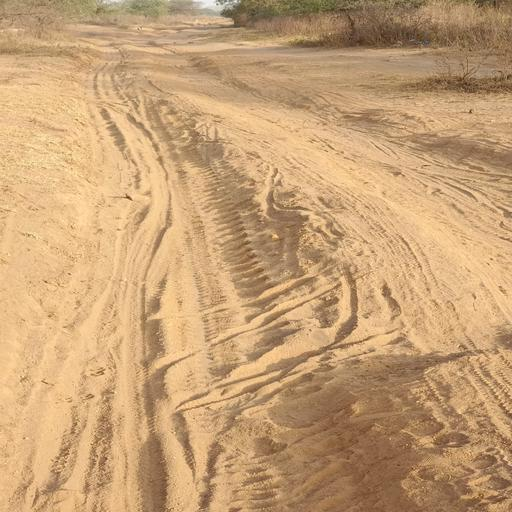vehicle_track: (41, 68, 283, 512), (175, 79, 512, 292)
